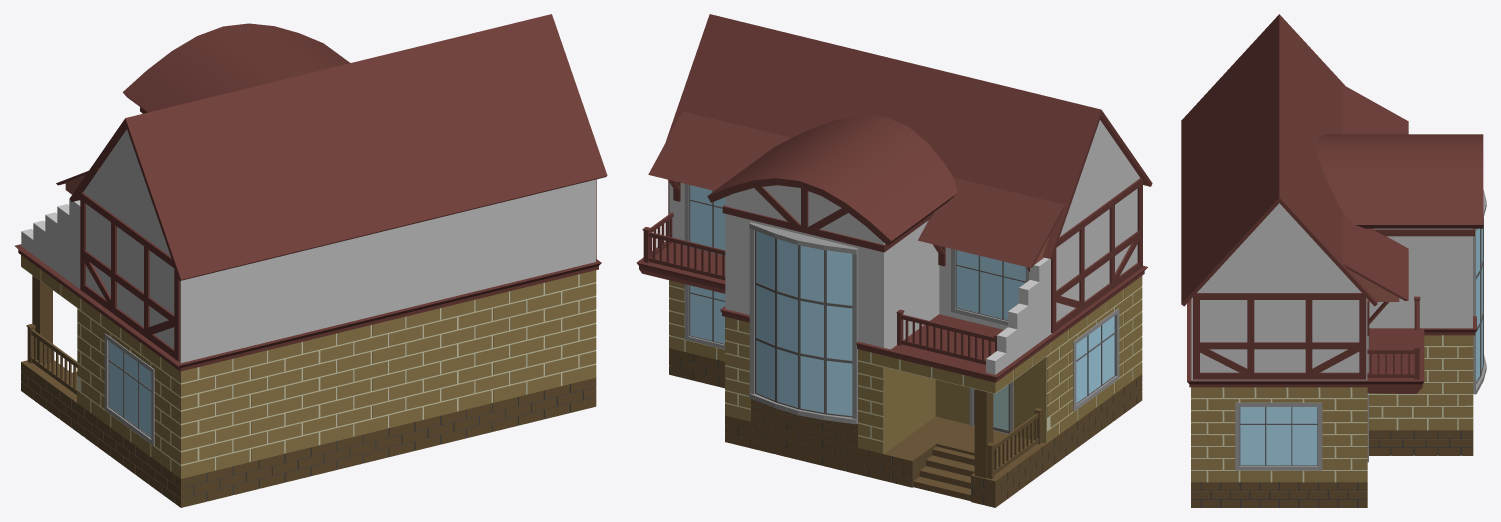
The model's file is house6.glb.
The picture shows the model from 3 angles, left to right: view 1: azimuth 30°, elevation 25°; view 2: azimuth 150°, elevation 25°; view 3: azimuth 270°, elevation 25°; orthographic projection. The views are drawn at different scales.
Parts seen in each view (by area): view 1: building.054; view 2: building.054; view 3: building.054.
Boxes of the visible parts, box(x1,y1,x2,y2) form: building.054: box(14, 14, 607, 507); building.054: box(636, 14, 1152, 507); building.054: box(1181, 14, 1486, 507).
Bounding box in the file's own units: 12.34 × 9.8 × 8.68.
Materials: 1 (1 with a texture image).
